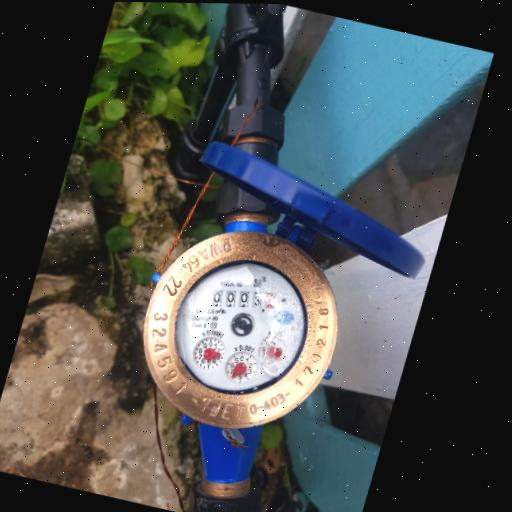0: (234, 288, 252, 309), (221, 289, 239, 309), (209, 288, 225, 307)
3: (248, 289, 265, 309)
7: (260, 289, 279, 310)
border_water_meter_number: (204, 274, 283, 322)
